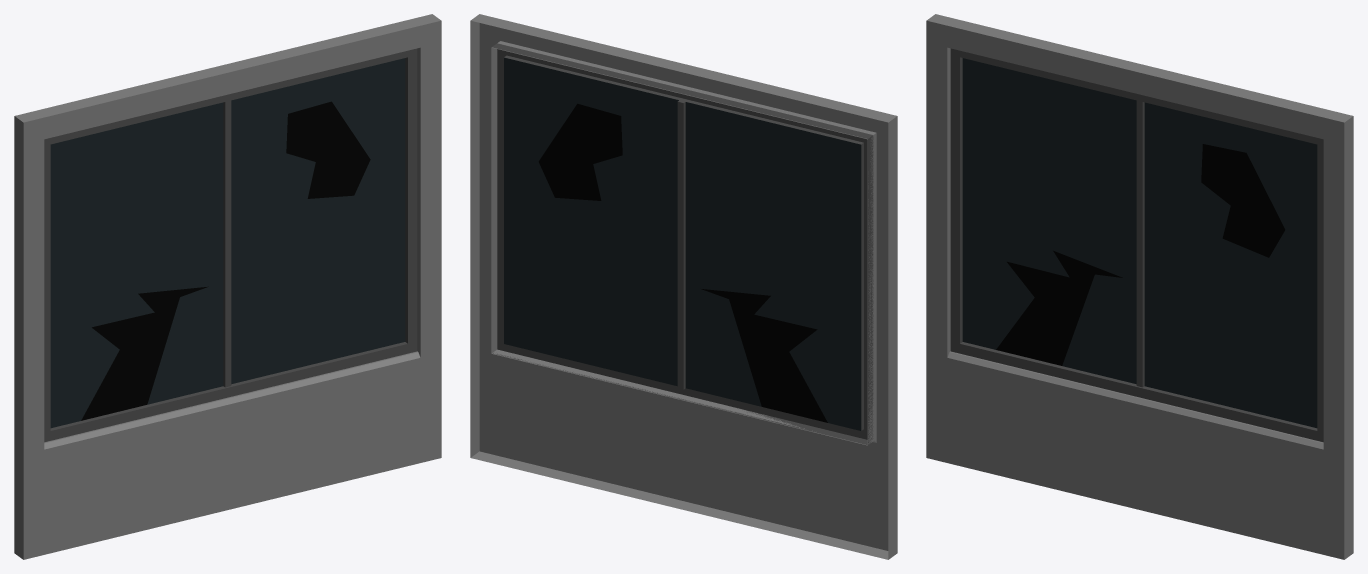
Rendered from front8_a.fbx.
3 renders of one model, left to right at view 1: azimuth 30°, elevation 25°; view 2: azimuth 150°, elevation 25°; view 3: azimuth 330°, elevation 25°, orthographic.
Parts seen in each view (by area): view 1: Cube.023; view 2: Cube.023; view 3: Cube.023.
Part boxes in pixels (x1=…): Cube.023: x1=14, y1=14, x2=441, y2=559; Cube.023: x1=470, y1=14, x2=897, y2=559; Cube.023: x1=926, y1=14, x2=1353, y2=559.
Size of the model in its own units: 400 by 400 by 15.
